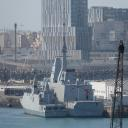Fragata: (38, 34, 108, 120), (16, 70, 70, 120)
